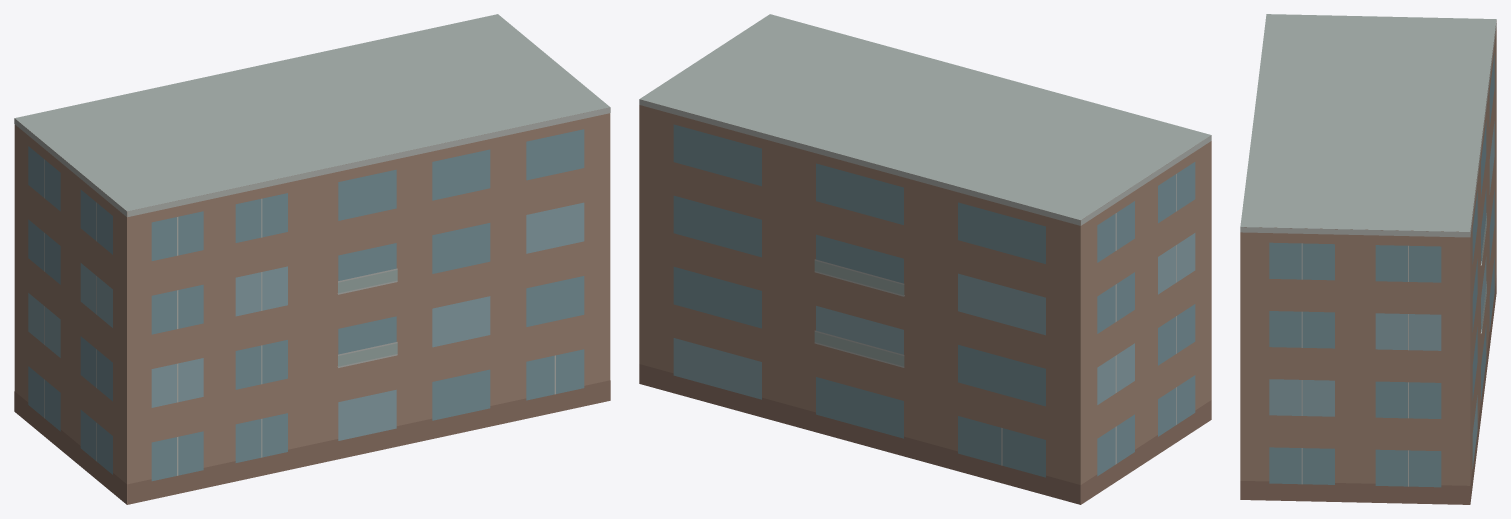
File: residential-1bd46428-f9b2-4424-beb8-4f0281bc69dd.glb
The picture shows the model from 3 angles, left to right: view 1: azimuth 30°, elevation 25°; view 2: azimuth 150°, elevation 25°; view 3: azimuth 270°, elevation 25°; orthographic projection. The views are drawn at different scales.
Visible parts, largest first — view 1: residential-1bd46428-f9b2-4424-beb8-4f0281bc69dd.tmp; view 2: residential-1bd46428-f9b2-4424-beb8-4f0281bc69dd.tmp; view 3: residential-1bd46428-f9b2-4424-beb8-4f0281bc69dd.tmp.
Boxes of the visible parts, x1=… form: residential-1bd46428-f9b2-4424-beb8-4f0281bc69dd.tmp: x1=14, y1=14, x2=610, y2=504; residential-1bd46428-f9b2-4424-beb8-4f0281bc69dd.tmp: x1=639, y1=14, x2=1211, y2=504; residential-1bd46428-f9b2-4424-beb8-4f0281bc69dd.tmp: x1=1240, y1=14, x2=1496, y2=504.
Size of the model in its own units: 20.92 by 12.2 by 10.4.
